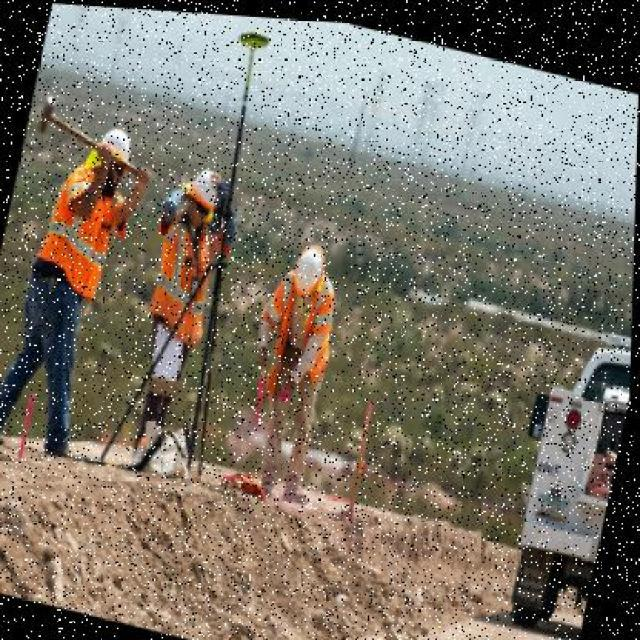helmet: (86, 116, 146, 182), (175, 155, 231, 219), (291, 236, 329, 298)
vest: (140, 209, 223, 345), (36, 153, 125, 279), (252, 262, 346, 379)
